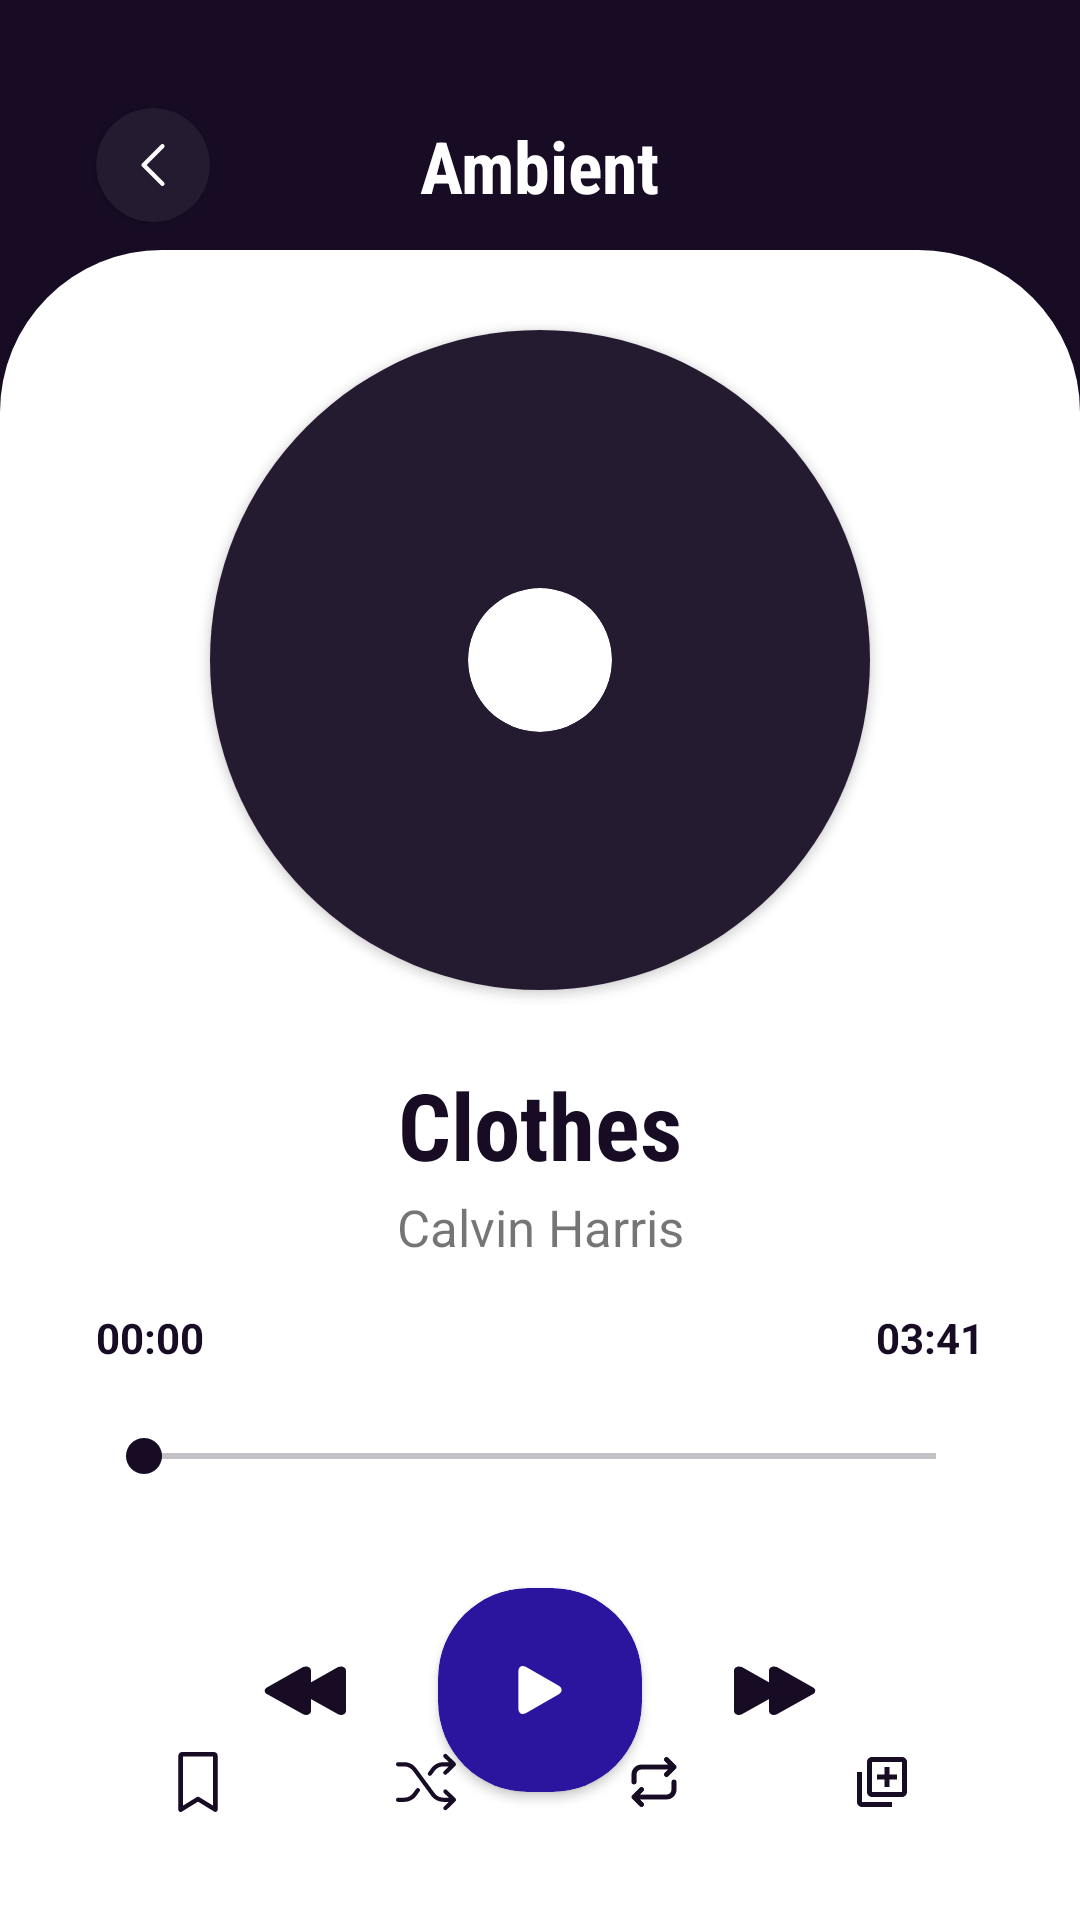

Screen size 1080px x 1920px. Icon name, then its center in pixels as (x,y):
add to queue: (882,1782)
back: (153,165)
bookmark: (198,1782)
next: (775,1690)
play arrowhead: (540,1690)
previous: (305,1690)
repeat: (654,1782)
shuffle: (426,1782)
